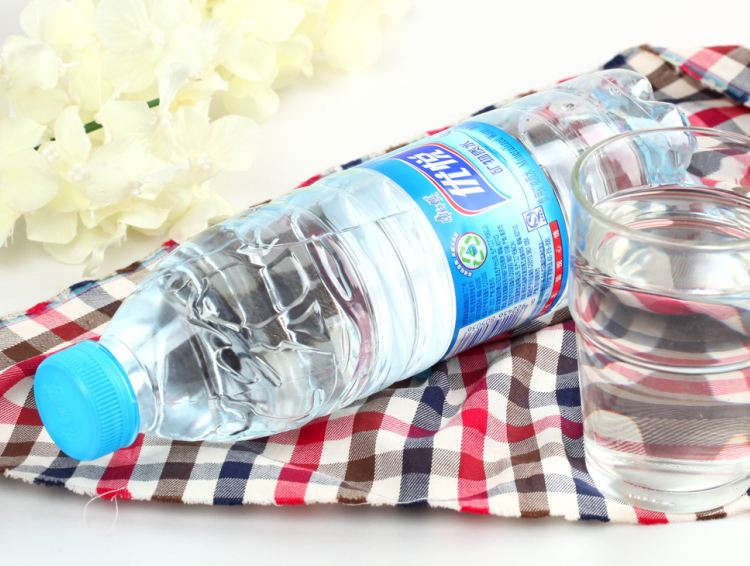amwater: (31, 43, 701, 480)
